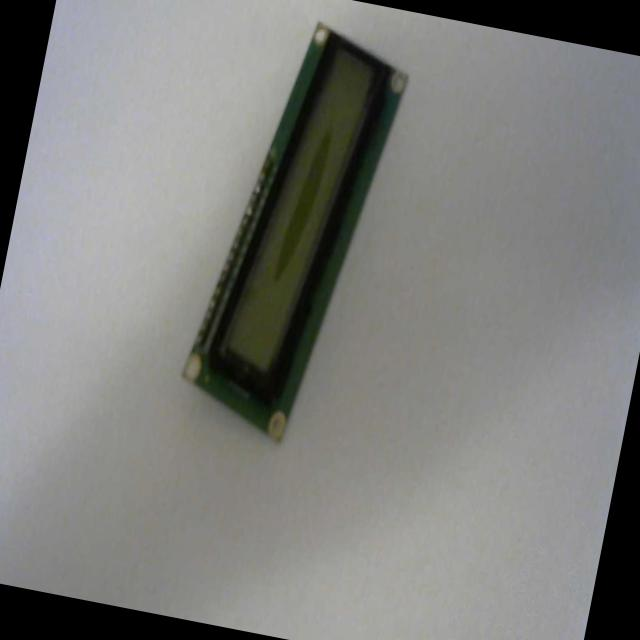lcd: (170, 6, 417, 455)
